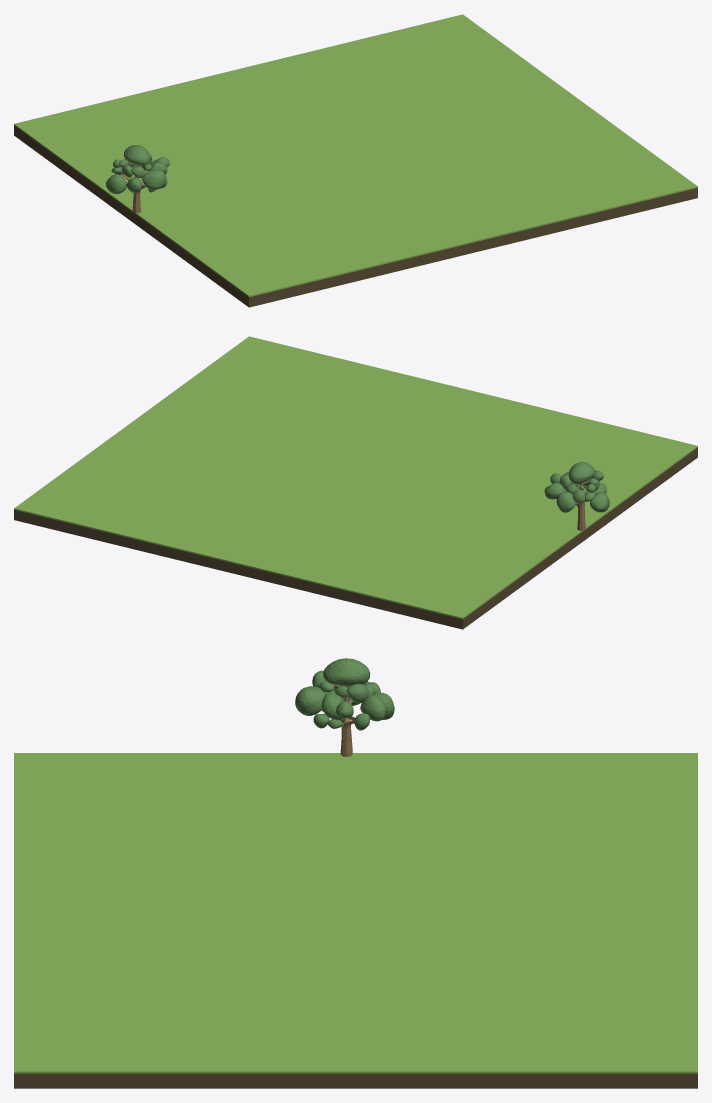
The model's file is tree_scene_v2.glb.
3 renders of one model, top to bottom at view 1: azimuth 30°, elevation 25°; view 2: azimuth 150°, elevation 25°; view 3: azimuth 270°, elevation 25°, orthographic. The views are drawn at different scales.
Parts seen in each view (by area): view 1: Cube.001, Cube.004; view 2: Cube.001, Cube.004; view 3: Cube.001, Cube.004, Icosphere.045, Icosphere.041.
Part boxes in pixels (x1,y1,x2,y2): Cube.001: [14, 14, 697, 297]; Cube.004: [14, 125, 697, 307]; Cube.001: [14, 336, 697, 619]; Cube.004: [14, 447, 697, 629]; Cube.001: [14, 753, 697, 1073]; Cube.004: [14, 1073, 697, 1088]; Icosphere.045: [323, 658, 370, 686]; Icosphere.041: [295, 686, 325, 715].
Bounding box in the file's own units: 155 × 24.13 × 133.
